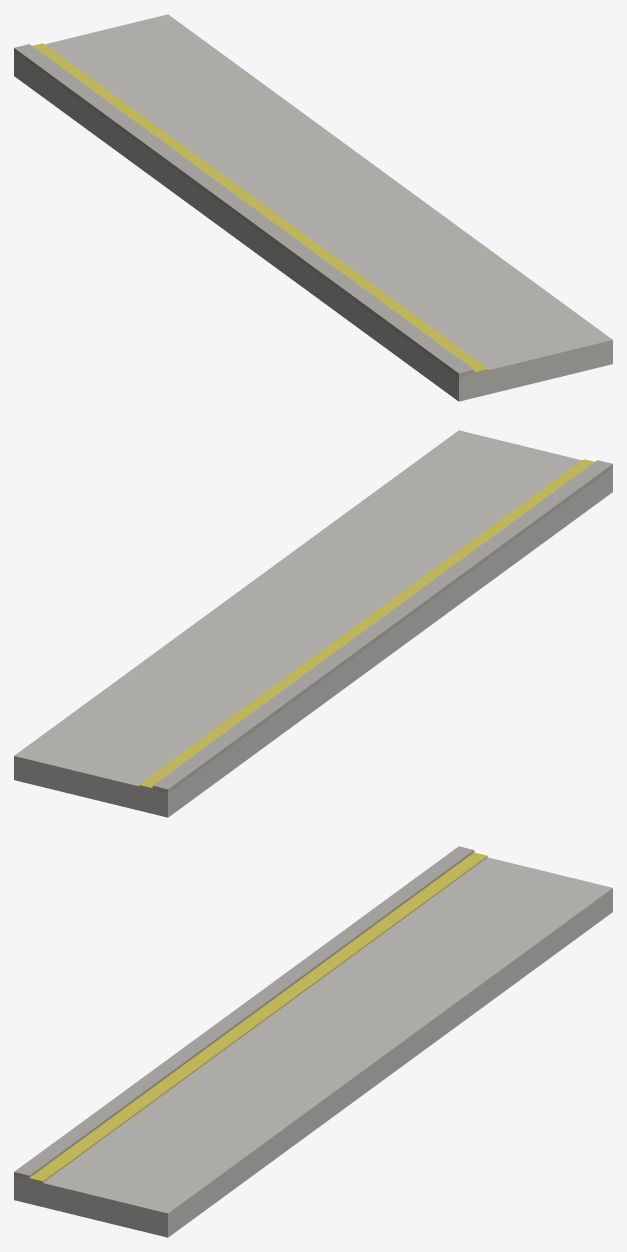
The model's file is station-platform-basic.glb.
3 views of the same model, one above another, from view 1: azimuth 30°, elevation 25°; view 2: azimuth 150°, elevation 25°; view 3: azimuth 330°, elevation 25° (orthographic).
Visible parts, largest first — view 1: station-platform-basic; view 2: station-platform-basic; view 3: station-platform-basic.
Part boxes in pixels (bbox=[...]): station-platform-basic: bbox=[14, 14, 612, 401]; station-platform-basic: bbox=[14, 430, 612, 817]; station-platform-basic: bbox=[14, 846, 612, 1237].
Bounding box in the file's own units: 4 × 0.7 × 20.
